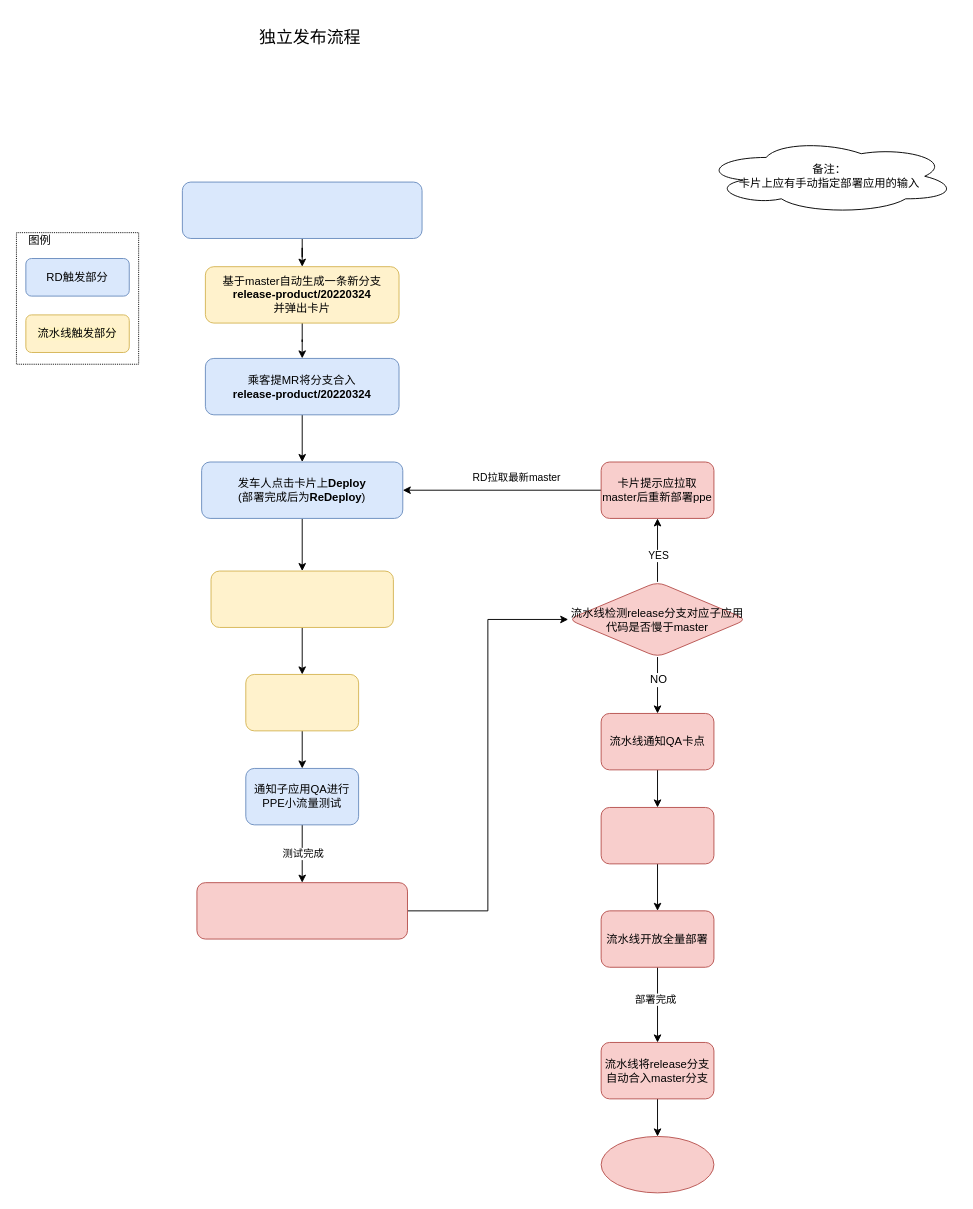
This 973x1209 diagram has some shape labels left out. The box of each missing label's shape, as (x1, y1, x2, y2) in pixels:
PPE发布完成， 通知相关人员: (245, 674, 359, 731)
发车人在发布群唤起机器人 @version master online: release-product/20220324: (196, 882, 407, 939)
司机 @version master release:product: (181, 181, 422, 238)
流水线自动 diff 出改动的 子应用并部署其PPE小流量: (210, 570, 393, 627)
流水线通知RD卡点: (600, 807, 714, 864)
通知上线成功 流程结束: (600, 1136, 714, 1193)
